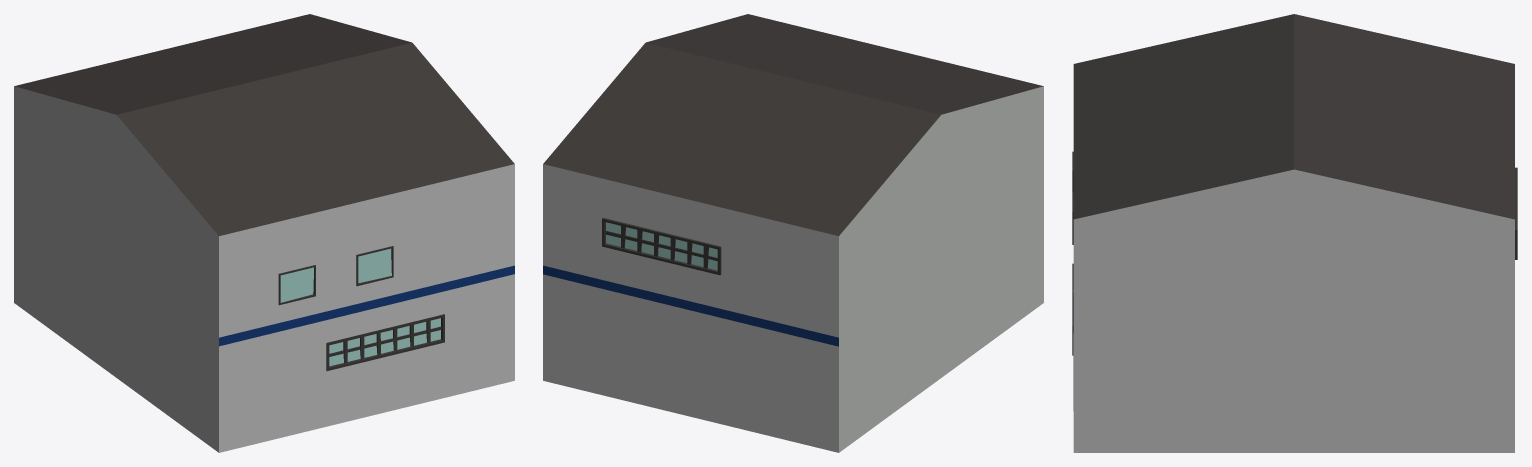
The model's file is SM_Factory_Warehouse_03.glb.
3 views of the same model, side by side, from view 1: azimuth 30°, elevation 25°; view 2: azimuth 150°, elevation 25°; view 3: azimuth 270°, elevation 25° (orthographic). The views are drawn at different scales.
Visible parts, largest first — view 1: SM_Factory_Warehouse_03; view 2: SM_Factory_Warehouse_03; view 3: SM_Factory_Warehouse_03.
Part boxes in pixels (x1=…): SM_Factory_Warehouse_03: x1=14, y1=14, x2=514, y2=452; SM_Factory_Warehouse_03: x1=543, y1=14, x2=1043, y2=452; SM_Factory_Warehouse_03: x1=1072, y1=14, x2=1517, y2=452.
Size of the model in its own units: 10 by 8.5 by 12.11.
Materials: 1 (1 with a texture image).
